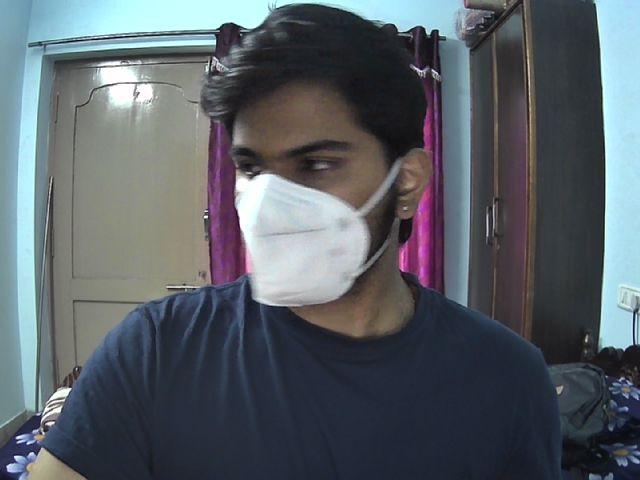Mask: (235, 182, 397, 308)
